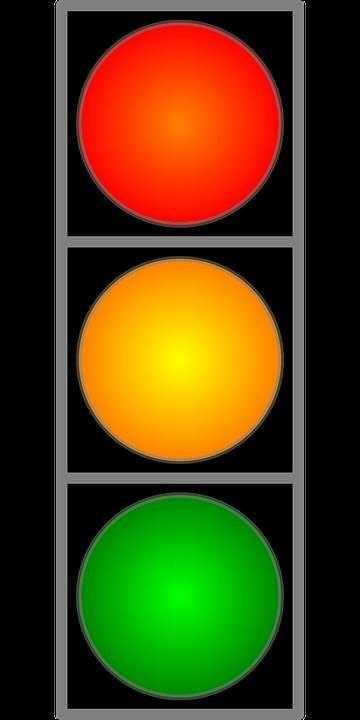5: (68, 10, 296, 239)
9: (56, 243, 294, 481)
red traffic light: (54, 468, 298, 720)
